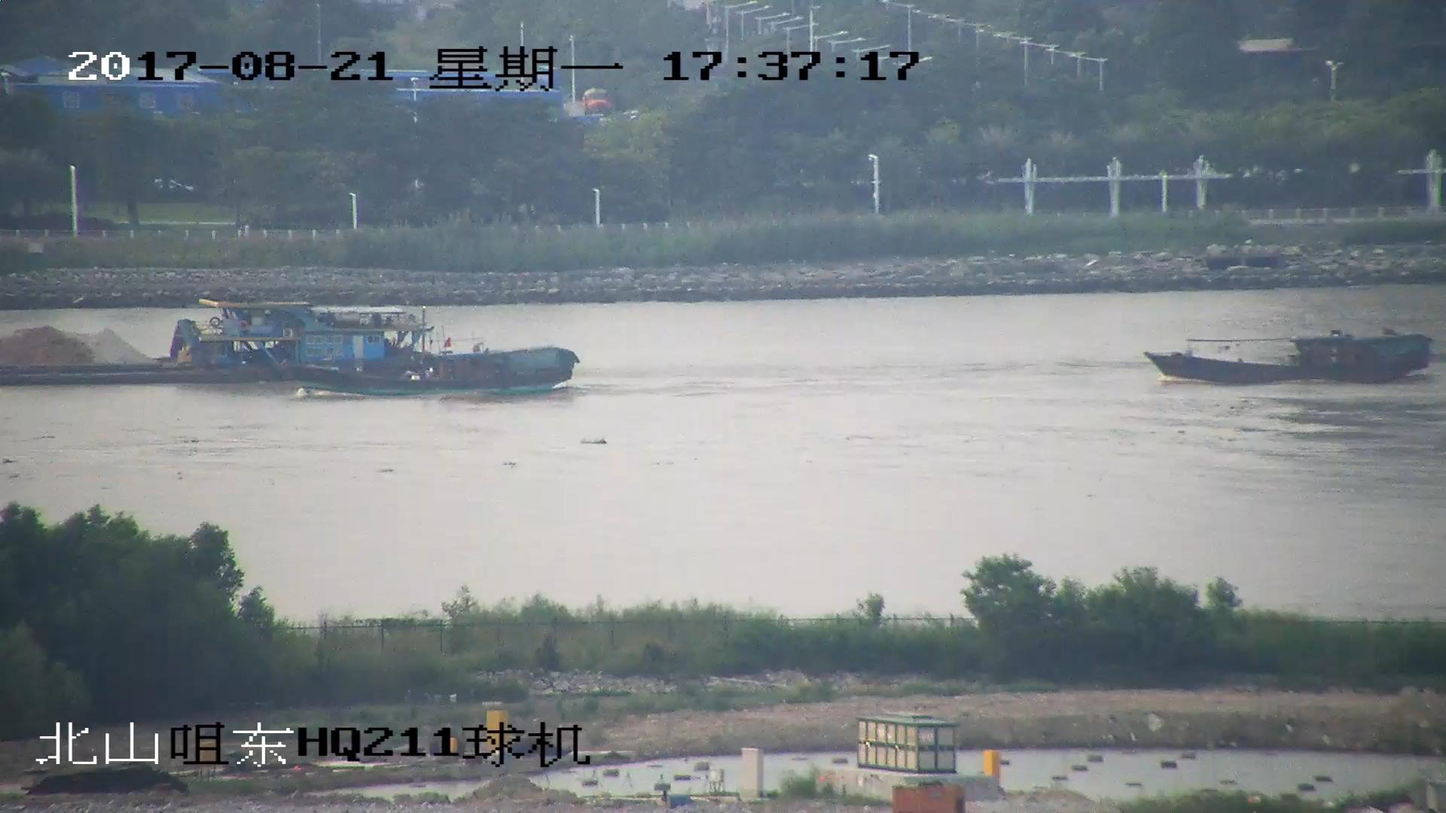fishing boat: (295, 321, 576, 395), (1144, 330, 1431, 382)
ore carrier: (0, 300, 358, 379)
